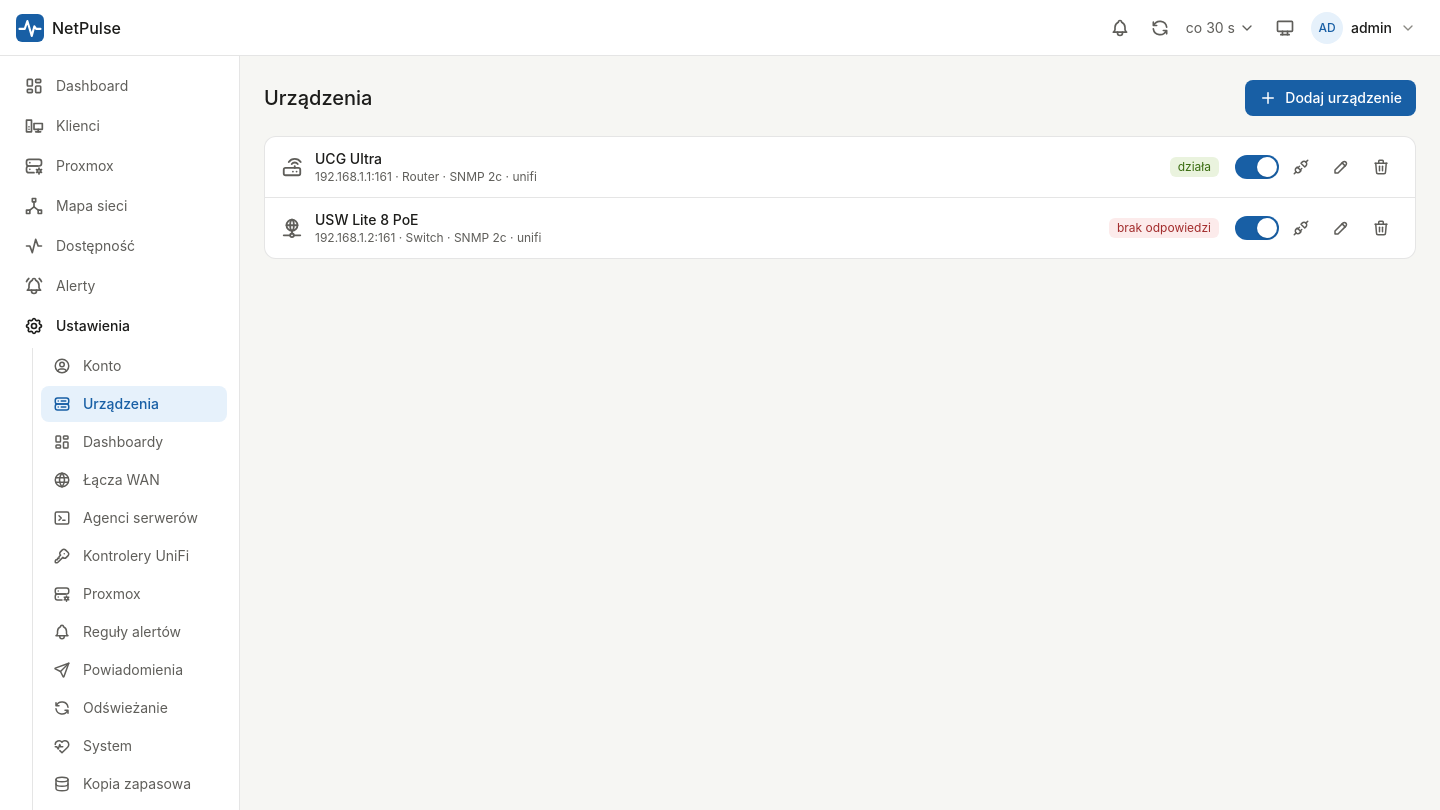
lista urządzeń › przełącznik wyłącza odpytywanie urządzenia
The image size is (1440, 810).
expect the heading "Urządzenia" is shown: met, box [264,84,372,112]
Click the switch named "UCG Ultra" at (1257, 167), box [1235,155,1279,179]
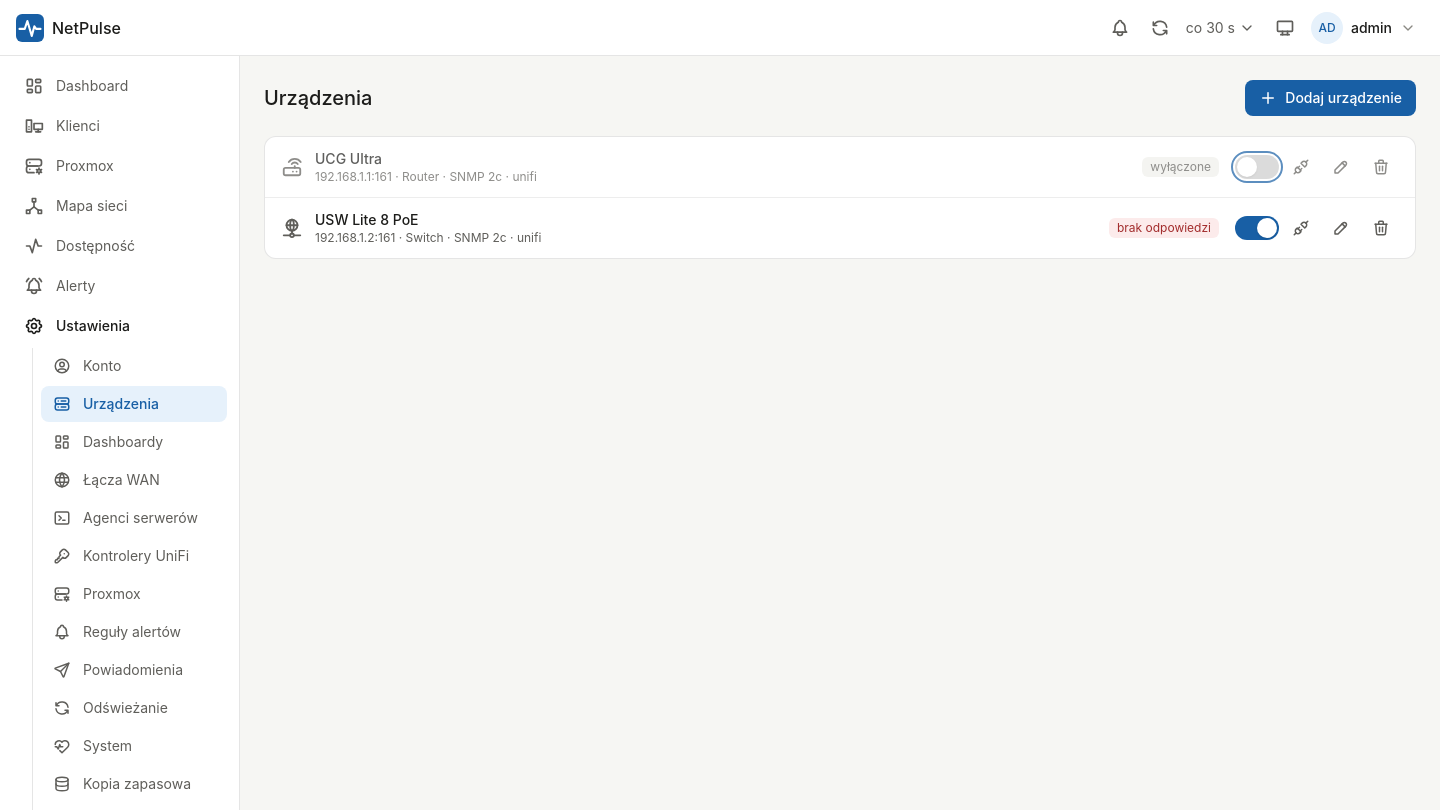
expect the text "wyłączone" is shown: met, box [1142,157,1219,177]
